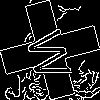W: (25, 25, 82, 83)
